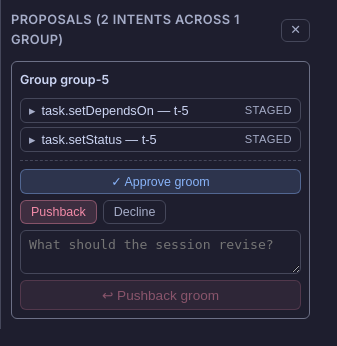
Test: DecisionPanel › enables the group reject submit once a reason is typed, defaulting to pushback with no outcome chosen
Type "No need" into the text box with placeholder "What should the session revise?" at (160, 252), box [20,230,301,274]
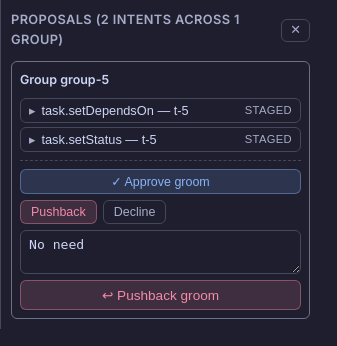
expect the button "↩ Pushback groom" is enabled: met, box [20,280,301,310]
